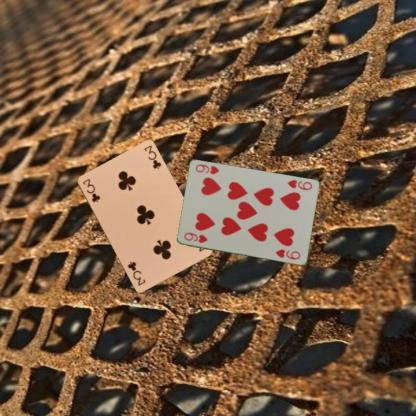3c: (80, 176, 102, 204)
9h: (284, 177, 314, 192), (182, 230, 209, 244)
